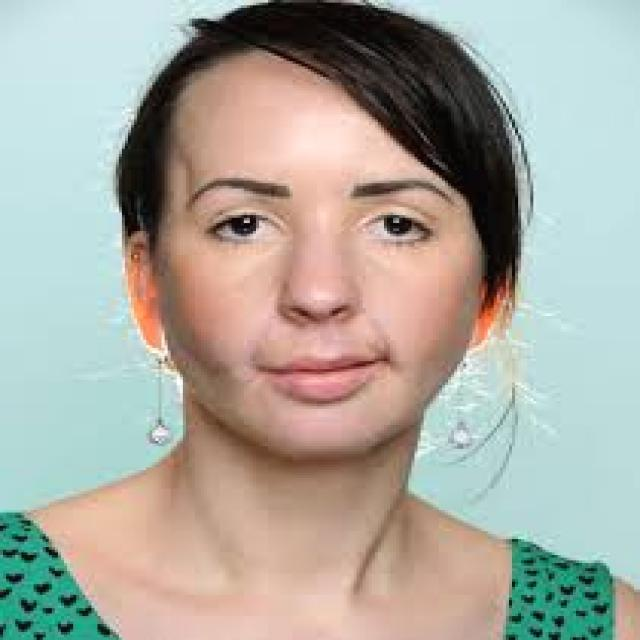stroke_face: (139, 36, 518, 469)
